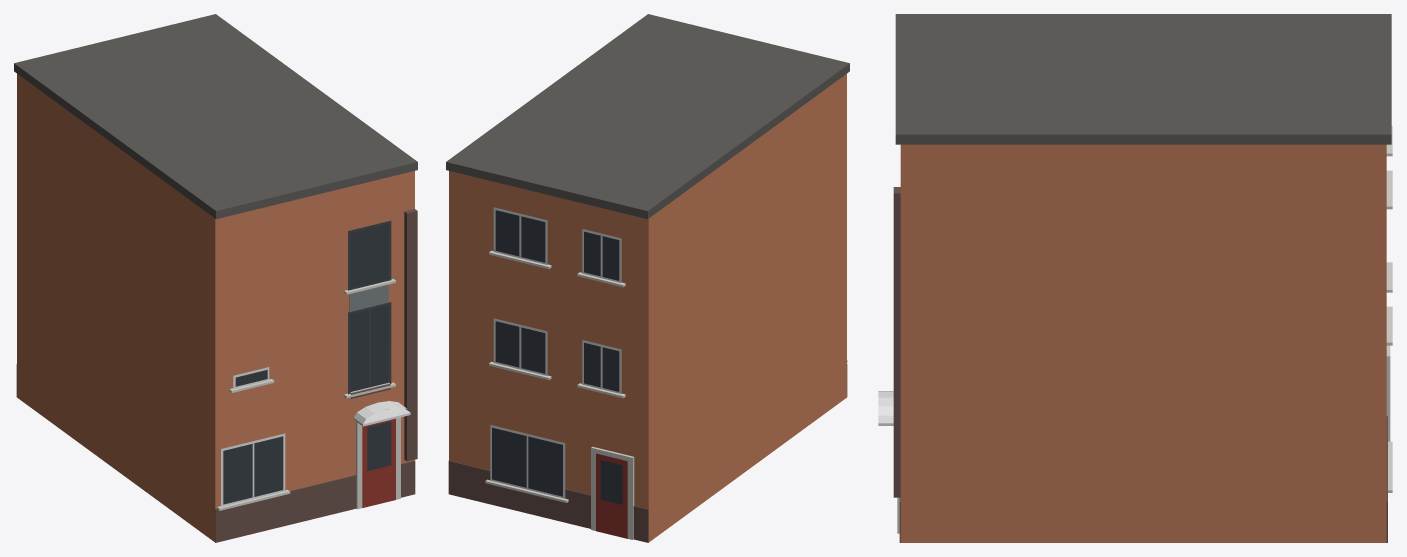
The model's file is nw-ao-slot__orange__3__flat__long__solid__f1d0__mirror.glb.
3 views of the same model, side by side, from view 1: azimuth 30°, elevation 25°; view 2: azimuth 150°, elevation 25°; view 3: azimuth 270°, elevation 25° (orthographic). The views are drawn at different scales.
Parts seen in each view (by area): view 1: nw-ao-slot__orange__3__flat__long__solid__f1d0__mirror; view 2: nw-ao-slot__orange__3__flat__long__solid__f1d0__mirror; view 3: nw-ao-slot__orange__3__flat__long__solid__f1d0__mirror.
Boxes of the visible parts, x1=… form: nw-ao-slot__orange__3__flat__long__solid__f1d0__mirror: x1=14, y1=14, x2=417, y2=542; nw-ao-slot__orange__3__flat__long__solid__f1d0__mirror: x1=446, y1=14, x2=849, y2=542; nw-ao-slot__orange__3__flat__long__solid__f1d0__mirror: x1=878, y1=14, x2=1392, y2=542.
Size of the model in its own units: 5.7 by 9 by 10.27.
